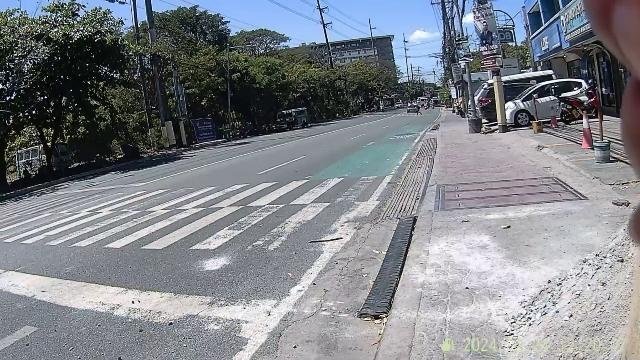utility_post: (491, 66, 505, 134)
